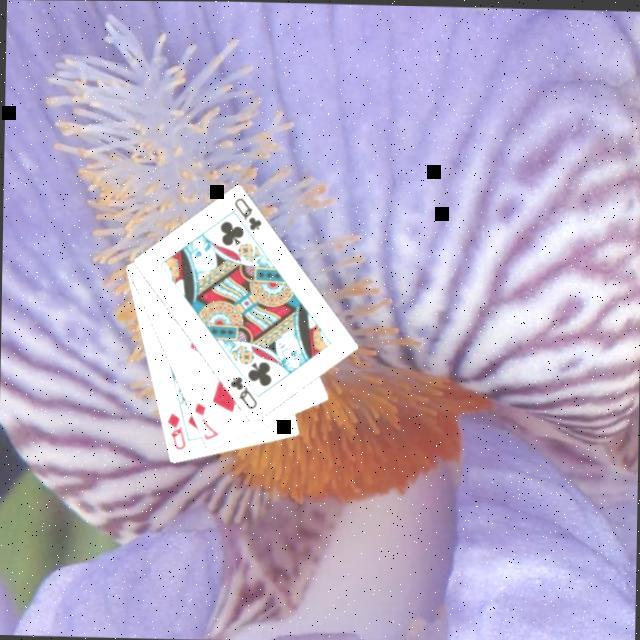7D: (188, 400, 220, 442)
QC: (223, 372, 258, 413), (228, 195, 263, 234)
QD: (160, 410, 187, 452)
